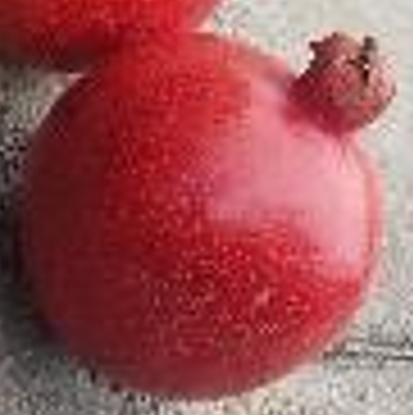pomegranate_A: (16, 28, 397, 398)
